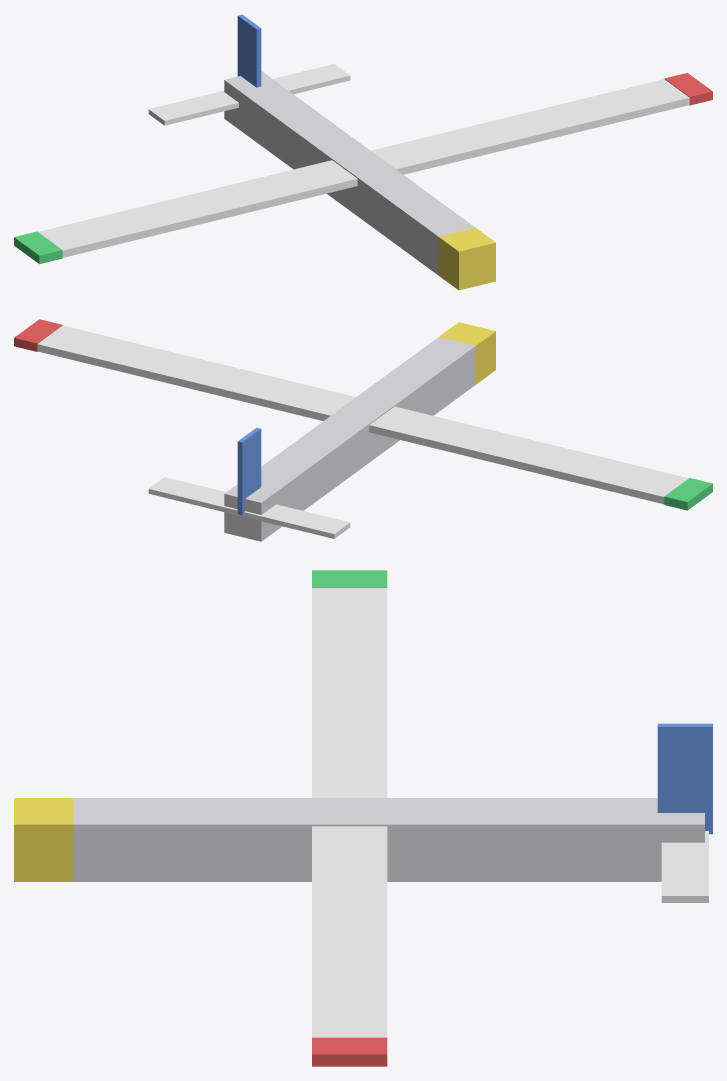
File: calibration_uav.glb
The picture shows the model from 3 angles, top to bottom: view 1: azimuth 30°, elevation 25°; view 2: azimuth 150°, elevation 25°; view 3: azimuth 270°, elevation 25°; orthographic projection. The views are drawn at different scales.
Parts seen in each view (by area): view 1: wing, fuselage, nose, tailplane, fin, wingtip_starboard, wingtip_port; view 2: wing, fuselage, tailplane, fin, nose, wingtip_starboard, wingtip_port; view 3: fuselage, wing, fin, nose, tailplane, wingtip_port, wingtip_starboard.
Boxes of the visible parts, bbox=[...] form: wing: bbox=[38, 79, 689, 257]; fuselage: bbox=[224, 71, 475, 275]; nose: bbox=[438, 228, 495, 290]; tailplane: bbox=[148, 64, 350, 125]; fin: bbox=[237, 14, 261, 87]; wingtip_starboard: bbox=[14, 231, 62, 264]; wingtip_port: bbox=[664, 73, 712, 105]; wing: bbox=[37, 325, 688, 504]; fuselage: bbox=[224, 337, 475, 541]; tailplane: bbox=[148, 477, 350, 538]; fin: bbox=[237, 427, 261, 515]; nose: bbox=[439, 322, 495, 384]; wingtip_starboard: bbox=[664, 478, 712, 510]; wingtip_port: bbox=[14, 319, 62, 351]; fuselage: bbox=[73, 798, 704, 881]; wing: bbox=[312, 587, 387, 1037]; fin: bbox=[657, 723, 712, 834]; nose: bbox=[14, 798, 73, 881]; tailplane: bbox=[661, 831, 708, 902]; wingtip_port: bbox=[312, 1037, 387, 1066]; wingtip_starboard: bbox=[312, 570, 387, 587].
Size of the model in its own units: 2.9 by 0.4 by 1.77.
